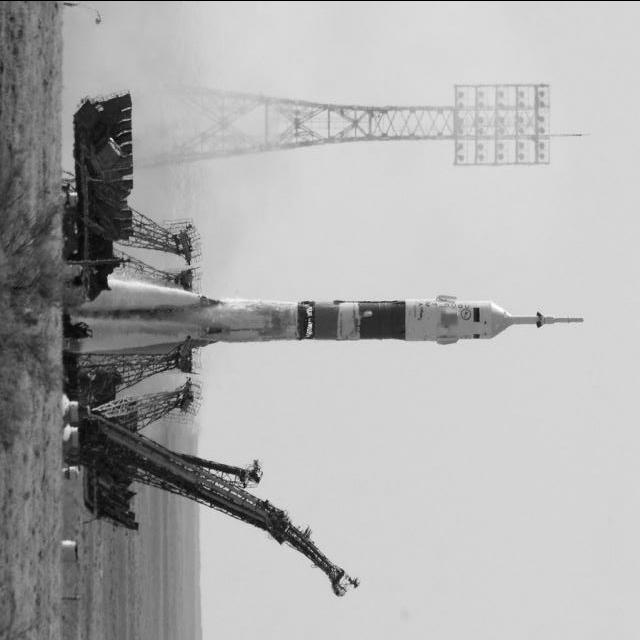missile: (171, 276, 518, 362)
